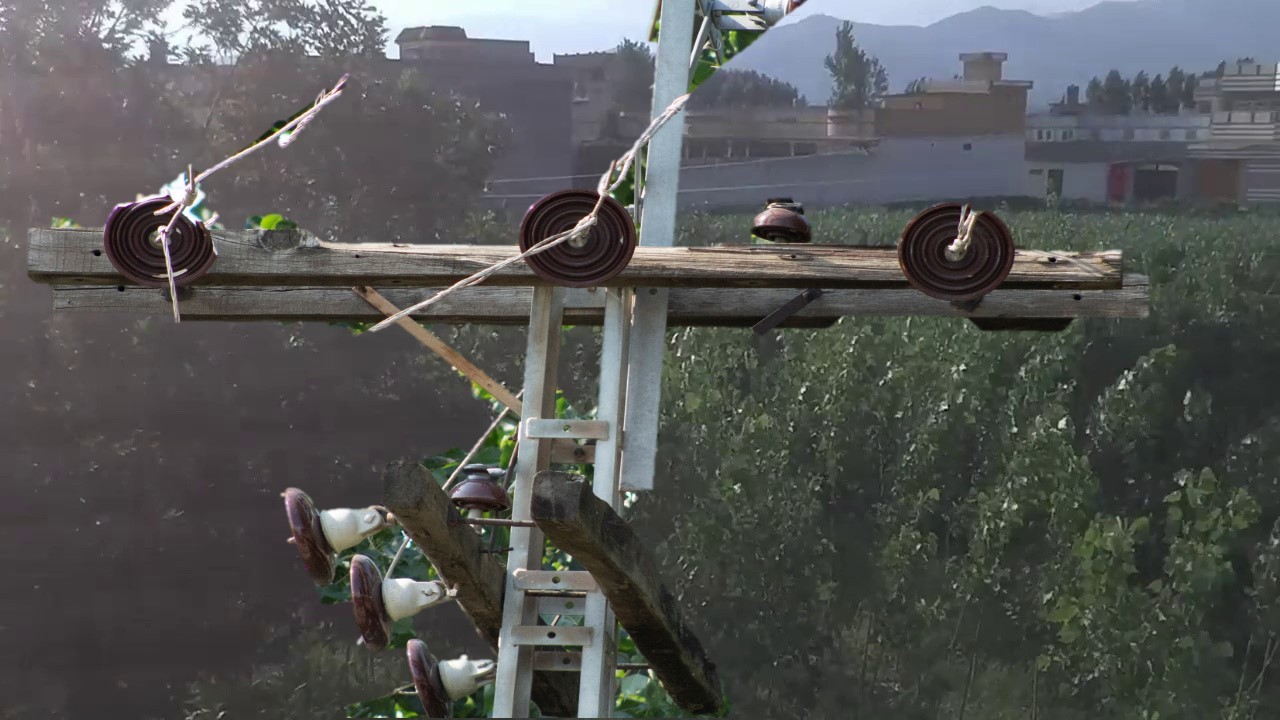insulator_disc: (514, 184, 640, 297), (897, 201, 1022, 311), (278, 481, 343, 591), (399, 630, 481, 712), (346, 548, 402, 658)
insulator_pin: (747, 190, 817, 247), (447, 457, 514, 516)
